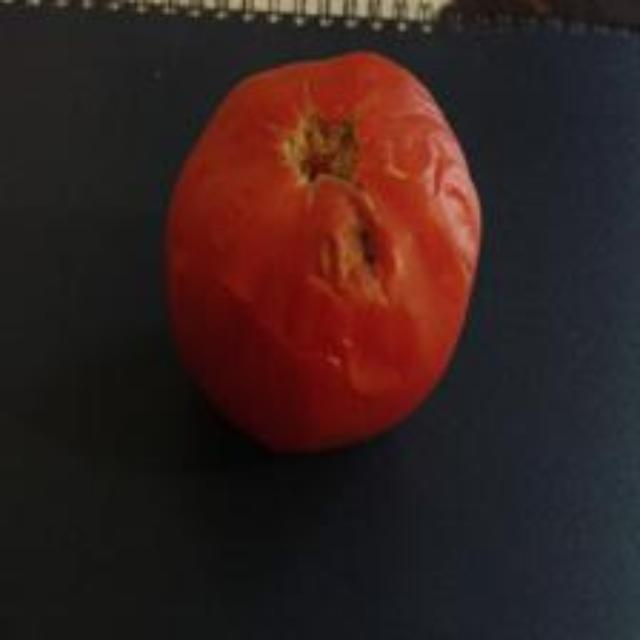defect: (159, 46, 487, 460)
